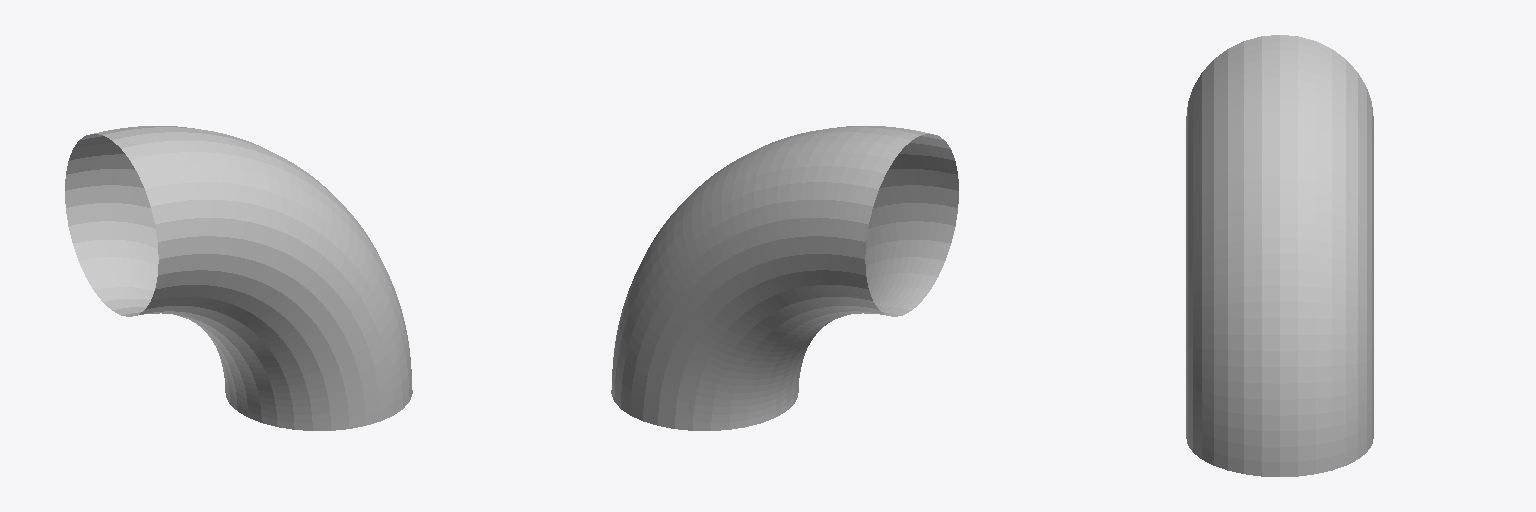
The model's file is cylinder90degreebend.obj.
3 views of the same model, side by side, from view 1: azimuth 30°, elevation 25°; view 2: azimuth 150°, elevation 25°; view 3: azimuth 270°, elevation 25° (orthographic).
Visible parts, largest first — view 1: Cylinder; view 2: Cylinder; view 3: Cylinder.
Boxes of the visible parts, box(x1,y1,x2,y2) form: Cylinder: box(65, 126, 412, 430); Cylinder: box(611, 126, 958, 430); Cylinder: box(1186, 35, 1373, 476).
Size of the model in its own units: 0.8866 by 0.8866 by 0.5.